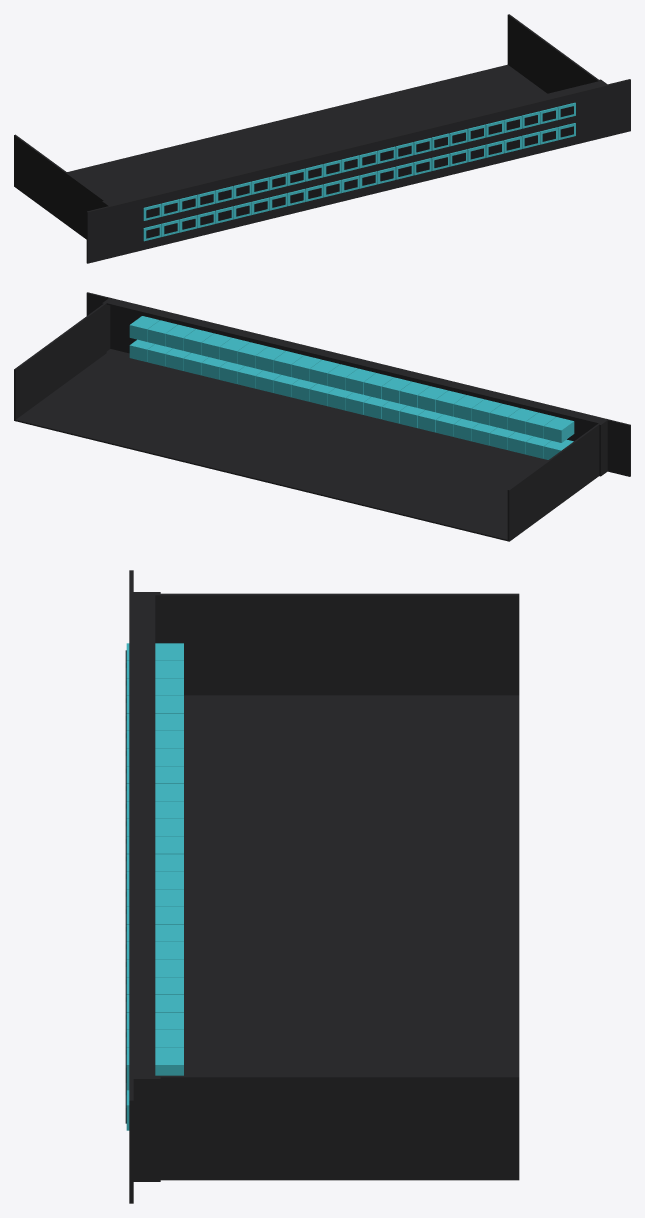
File: FP-LC-48.far.glb
The picture shows the model from 3 angles, top to bottom: view 1: azimuth 30°, elevation 25°; view 2: azimuth 150°, elevation 25°; view 3: azimuth 270°, elevation 25°; orthographic projection. The views are drawn at different scales.
Visible parts, largest first — view 1: FP-LC-48_Body_far; view 2: FP-LC-48_Body_far; view 3: FP-LC-48_Body_far.
Boxes of the visible parts, x1=… form: FP-LC-48_Body_far: x1=14, y1=14, x2=630, y2=263; FP-LC-48_Body_far: x1=14, y1=292, x2=630, y2=541; FP-LC-48_Body_far: x1=125, y1=570, x2=519, y2=1203.
Size of the model in its own units: 0.4826 by 0.0437 by 0.1515.
1 material, 1 textured.
